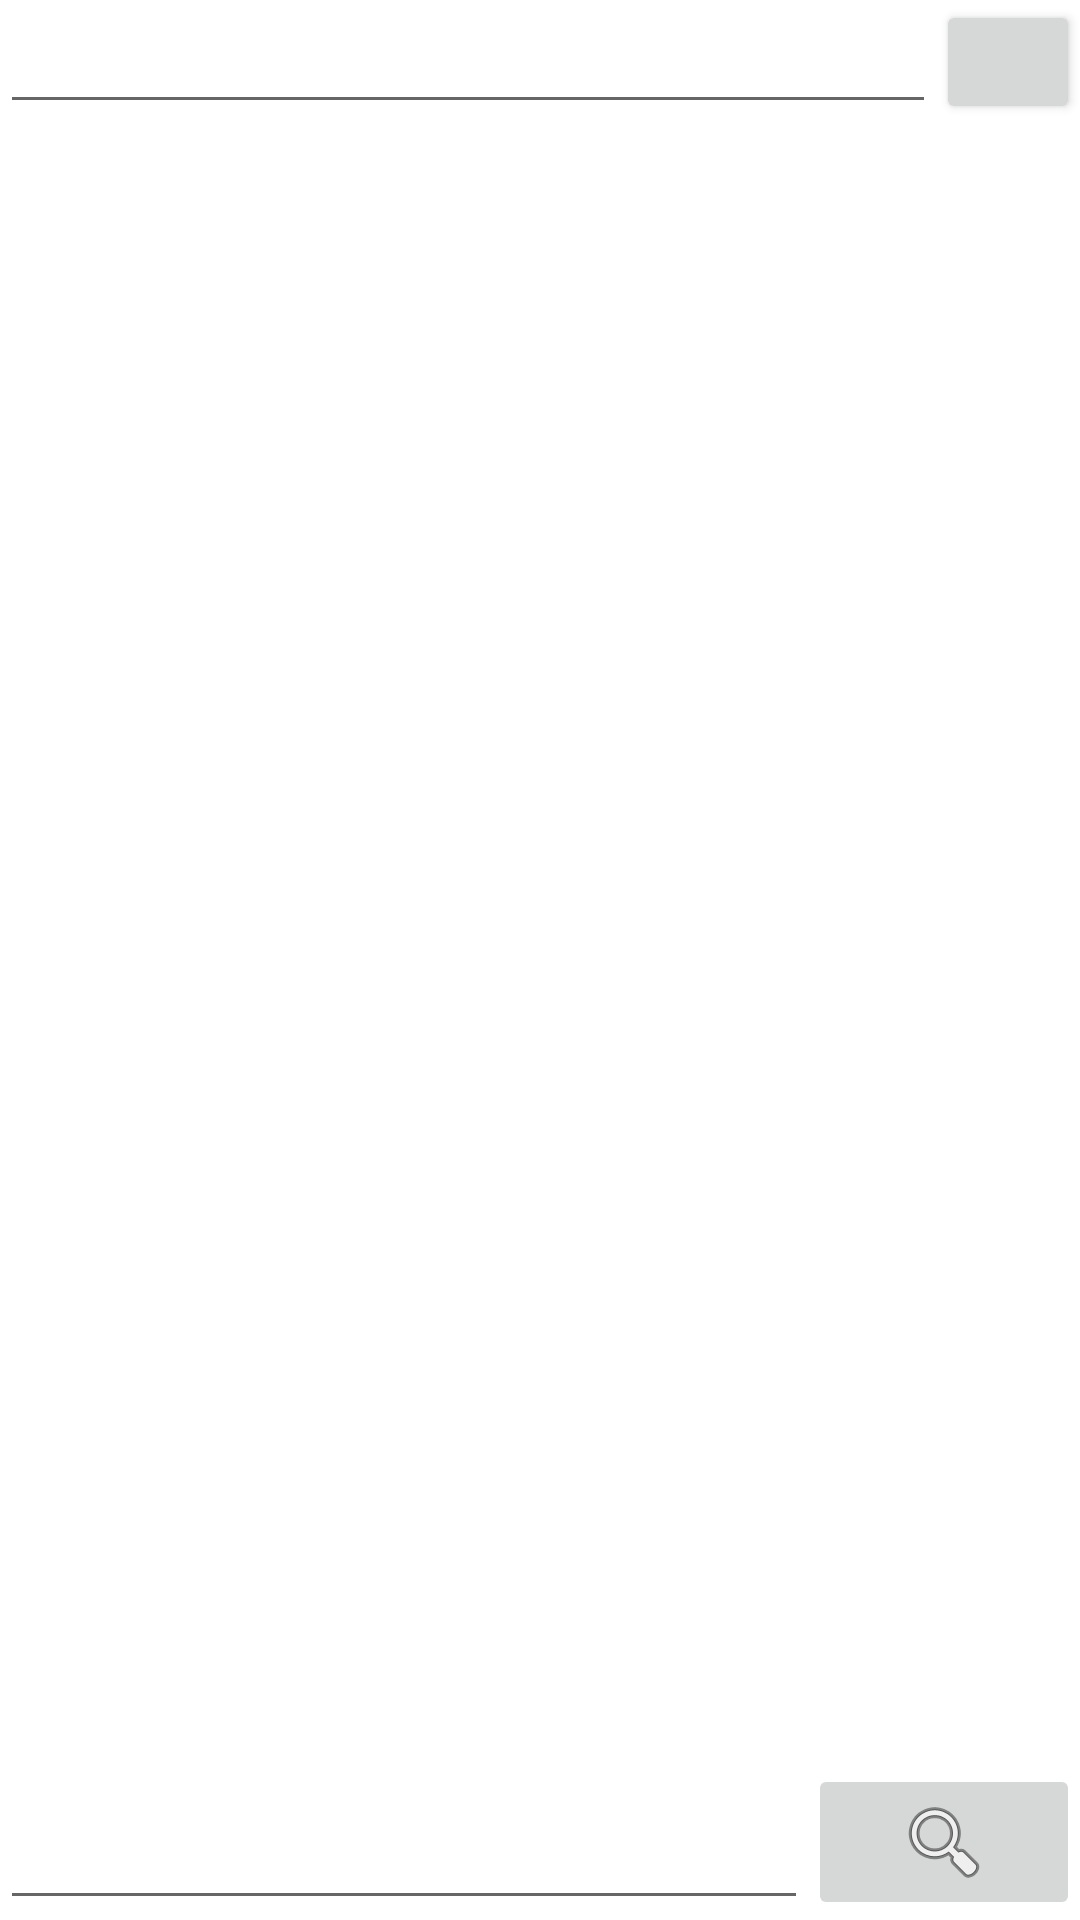

Named icons in this screenshot (1080×1920) and their centers, (x=x, y=y):
Search: (x=944, y=1842)
